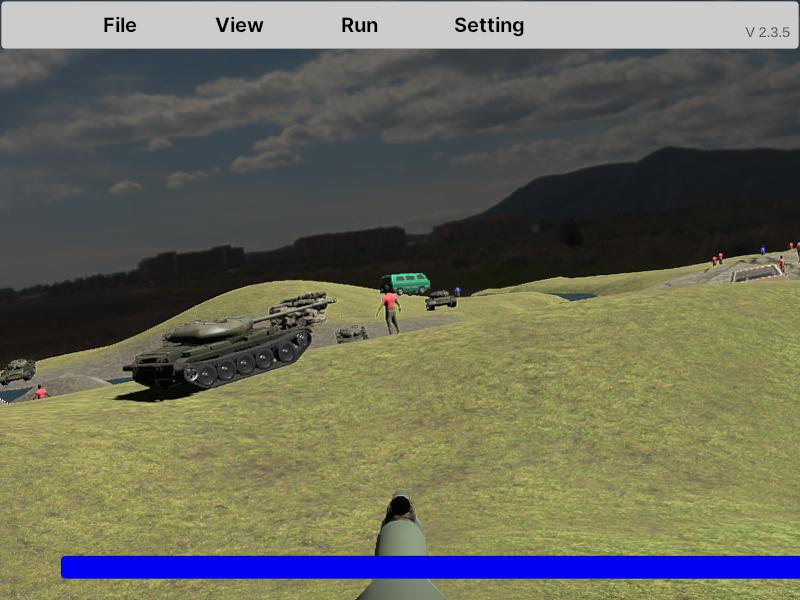Human: (377, 285, 402, 340)
Tank: (121, 295, 337, 392), (0, 358, 38, 385)
car: (380, 272, 431, 297)
